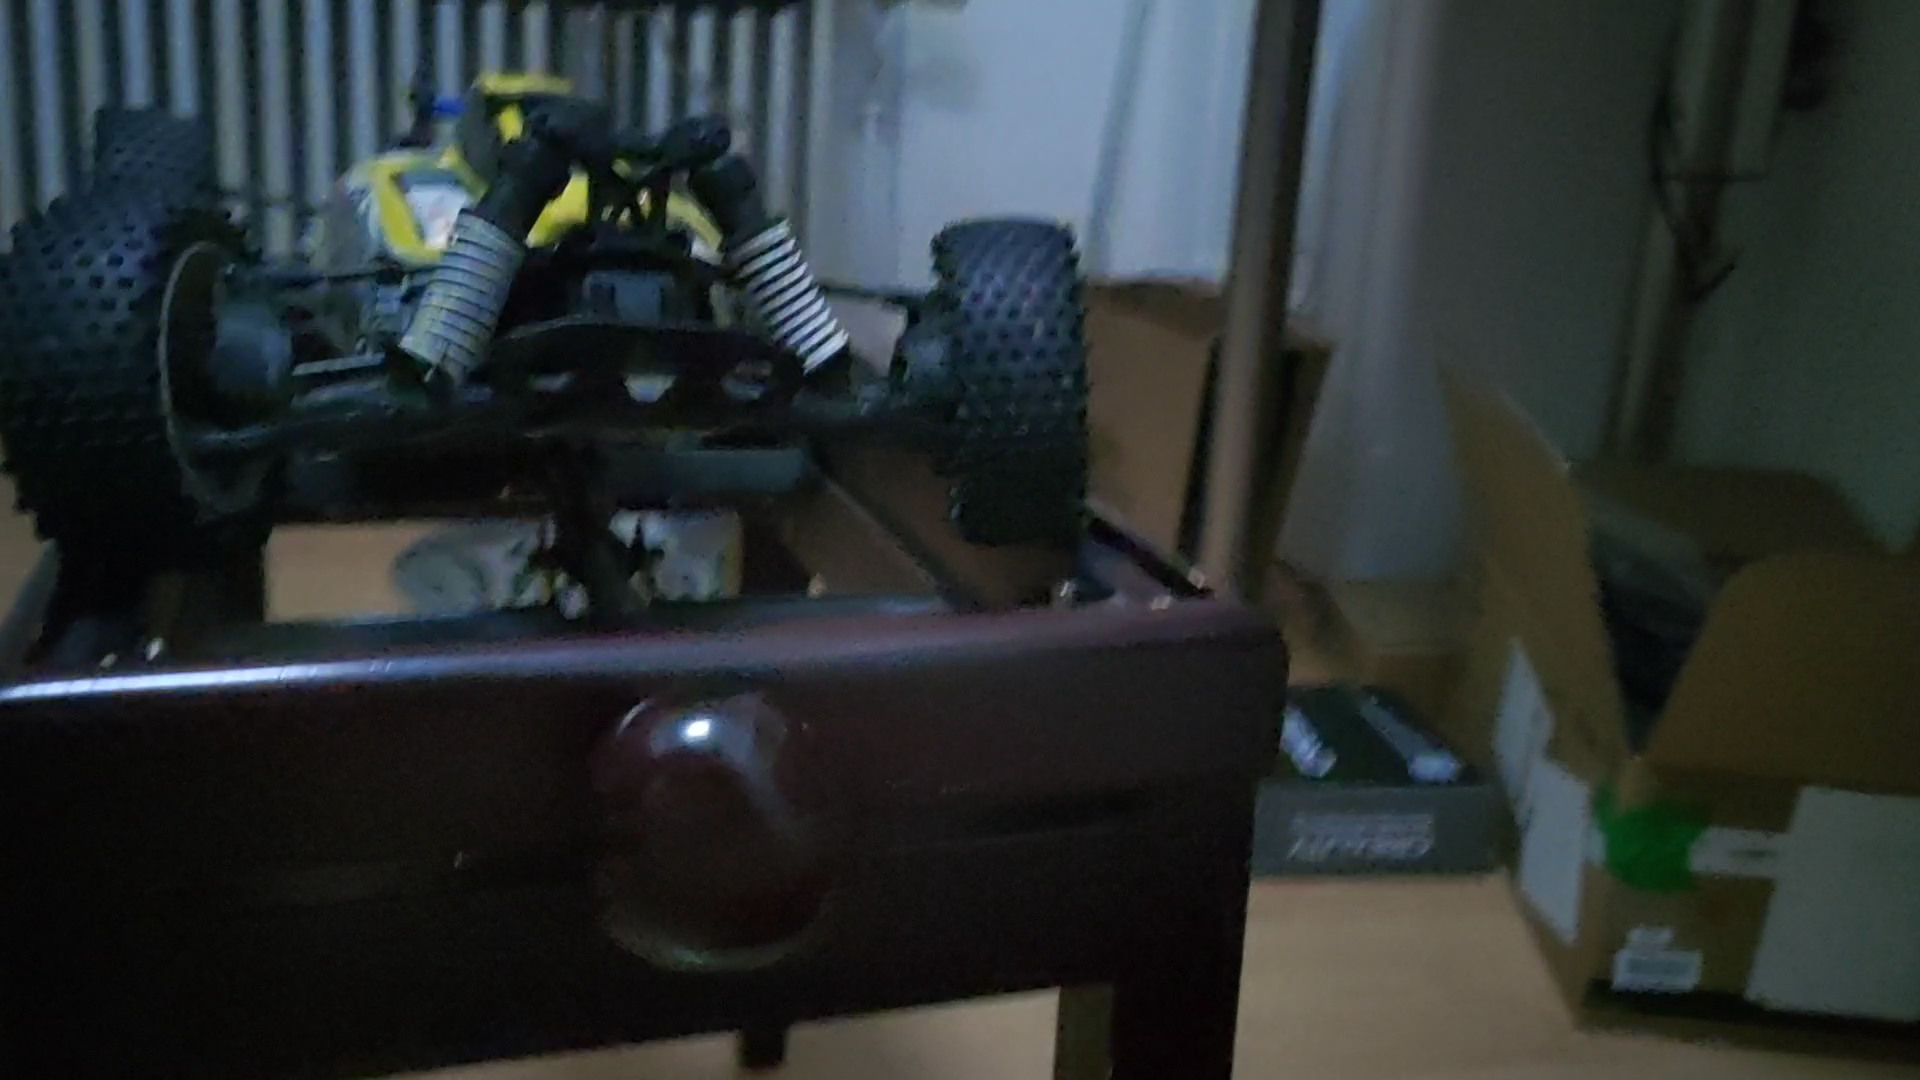buggy: (3, 71, 1097, 555)
